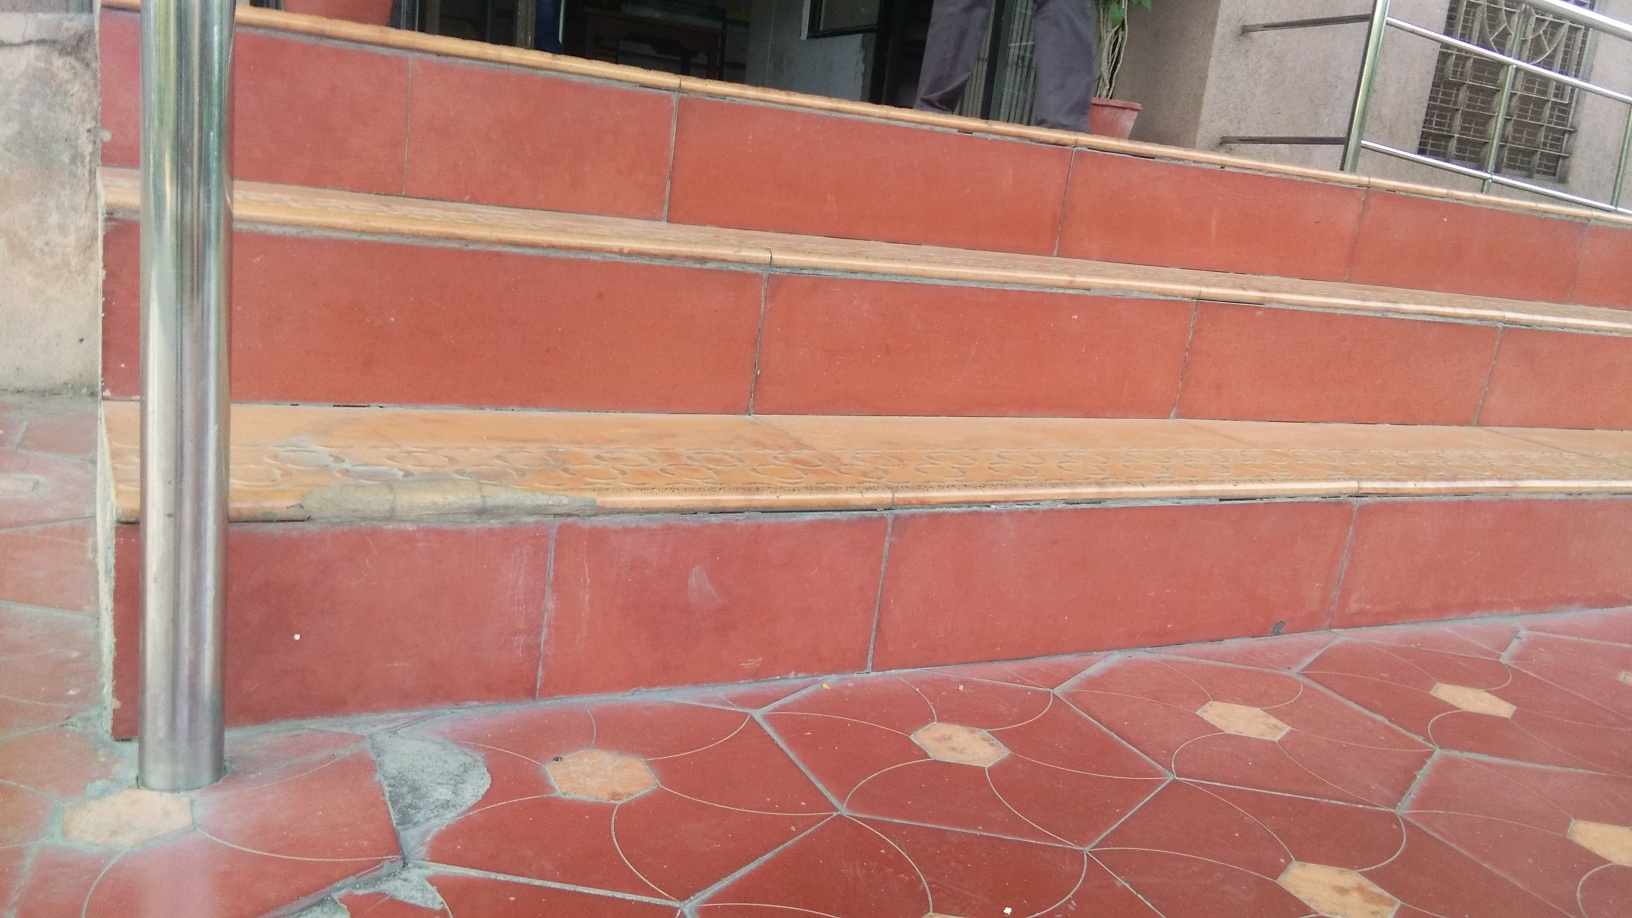stairs_up: (89, 1, 1632, 694)
